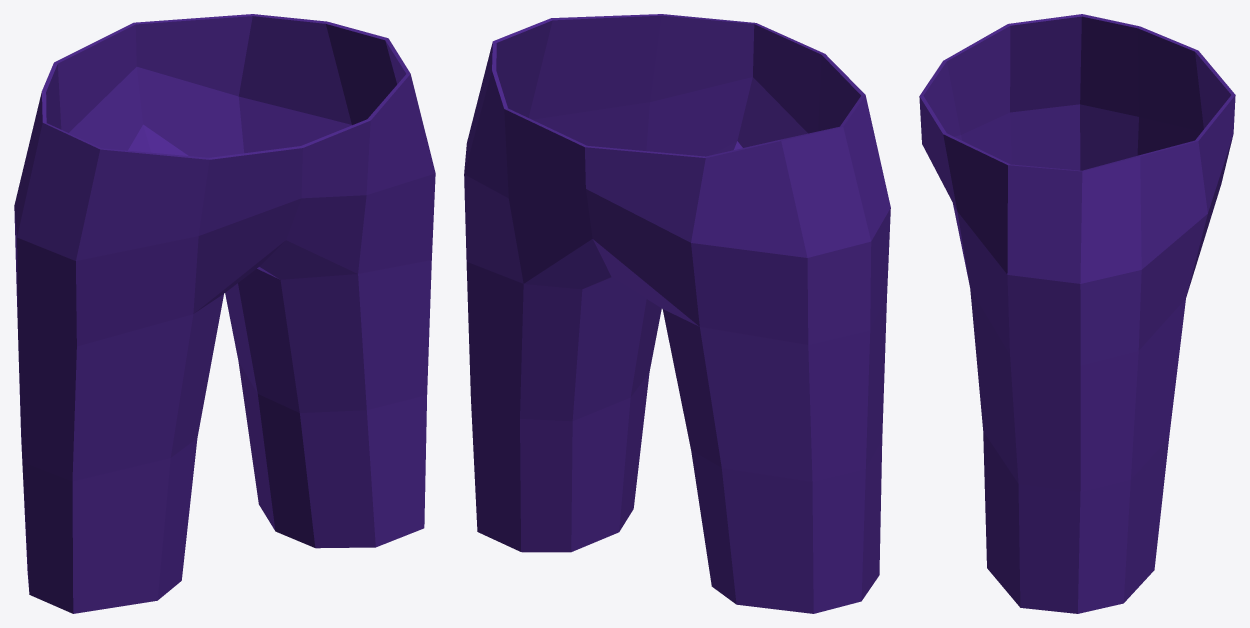
File: Pant2.fbx
The picture shows the model from 3 angles, left to right: view 1: azimuth 30°, elevation 25°; view 2: azimuth 150°, elevation 25°; view 3: azimuth 270°, elevation 25°; orthographic projection. The views are drawn at different scales.
Visible parts, largest first — view 1: Pant2; view 2: Pant2; view 3: Pant2.
Boxes of the visible parts, x1=… form: Pant2: x1=14, y1=14, x2=435, y2=613; Pant2: x1=464, y1=14, x2=890, y2=613; Pant2: x1=919, y1=14, x2=1235, y2=613.
Size of the model in its own units: 99.8 by 112 by 73.36.
